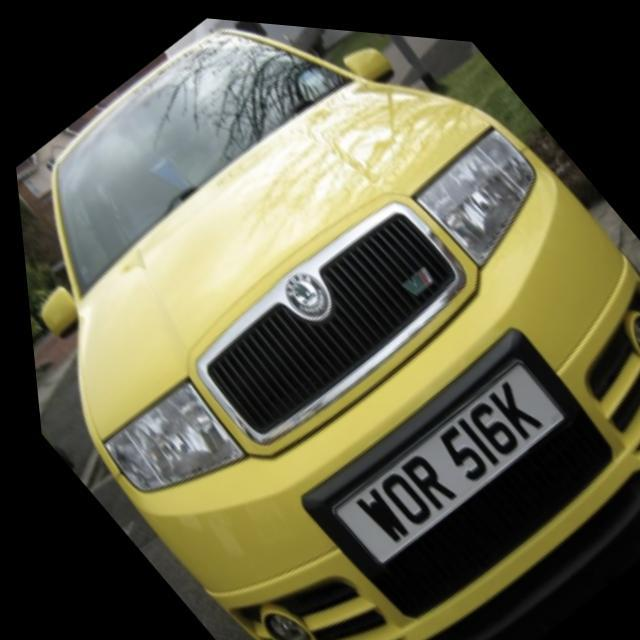license_plate: (328, 354, 556, 558)
